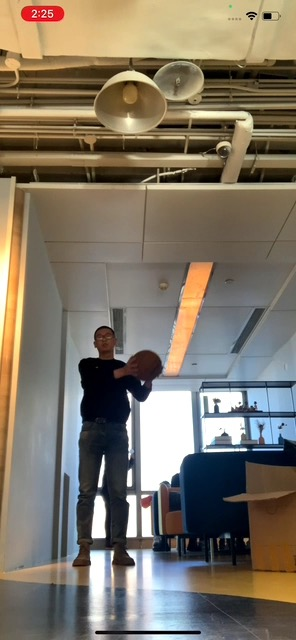ball: (131, 349, 162, 381)
